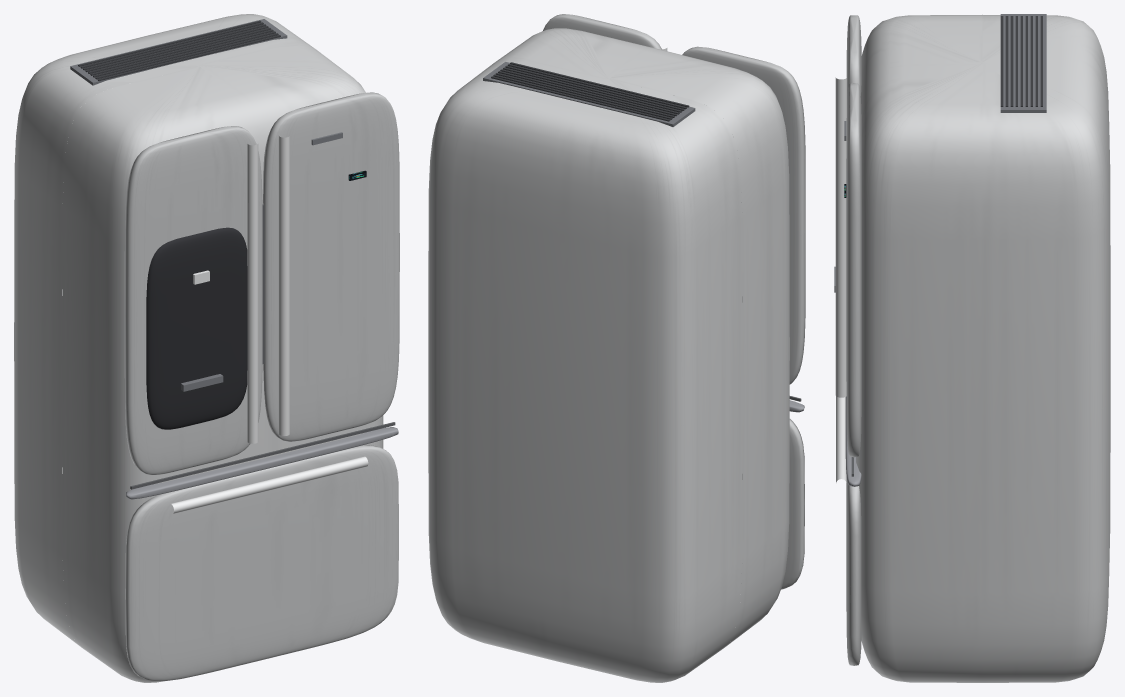
The model's file is refrigerator.glb.
3 views of the same model, side by side, from view 1: azimuth 30°, elevation 25°; view 2: azimuth 150°, elevation 25°; view 3: azimuth 270°, elevation 25° (orthographic). The views are drawn at different scales.
Parts seen in each view (by area): view 1: body, freezer-drawer, door-right, door-left, dispenser, handle-left, handle-right, drawer-top, handle-drawer, gasket, top-grille; view 2: body, door-left, freezer-drawer, door-right, top-grille; view 3: body, door-right, handle-right, top-grille, freezer-drawer, door-left, handle-drawer, drawer-top.
Part boxes in pixels (box(x1,y1,x2,y2)): body: box(14, 14, 383, 682); freezer-drawer: box(125, 445, 398, 681); door-right: box(263, 92, 399, 441); door-left: box(124, 126, 262, 474); dispenser: box(146, 227, 247, 429); handle-left: box(247, 144, 258, 443); handle-right: box(278, 135, 289, 435); drawer-top: box(126, 427, 398, 499); handle-drawer: box(171, 456, 368, 513); gasket: box(130, 422, 395, 489); top-grille: box(70, 19, 287, 85); body: box(428, 28, 789, 682); door-left: box(682, 46, 805, 384); freezer-drawer: box(742, 419, 804, 589); door-right: box(543, 14, 662, 49); top-grille: box(483, 62, 695, 126); body: box(856, 14, 1110, 682); door-right: box(846, 83, 861, 457); handle-right: box(835, 93, 846, 397); top-grille: box(1000, 14, 1046, 112); freezer-drawer: box(846, 478, 861, 665); door-left: box(846, 15, 861, 104); handle-drawer: box(836, 396, 846, 482); drawer-top: box(845, 396, 861, 486).
Bounding box in the file's own units: 0.9 × 1.78 × 0.778.
Materials: 9 (4 with a texture image).
